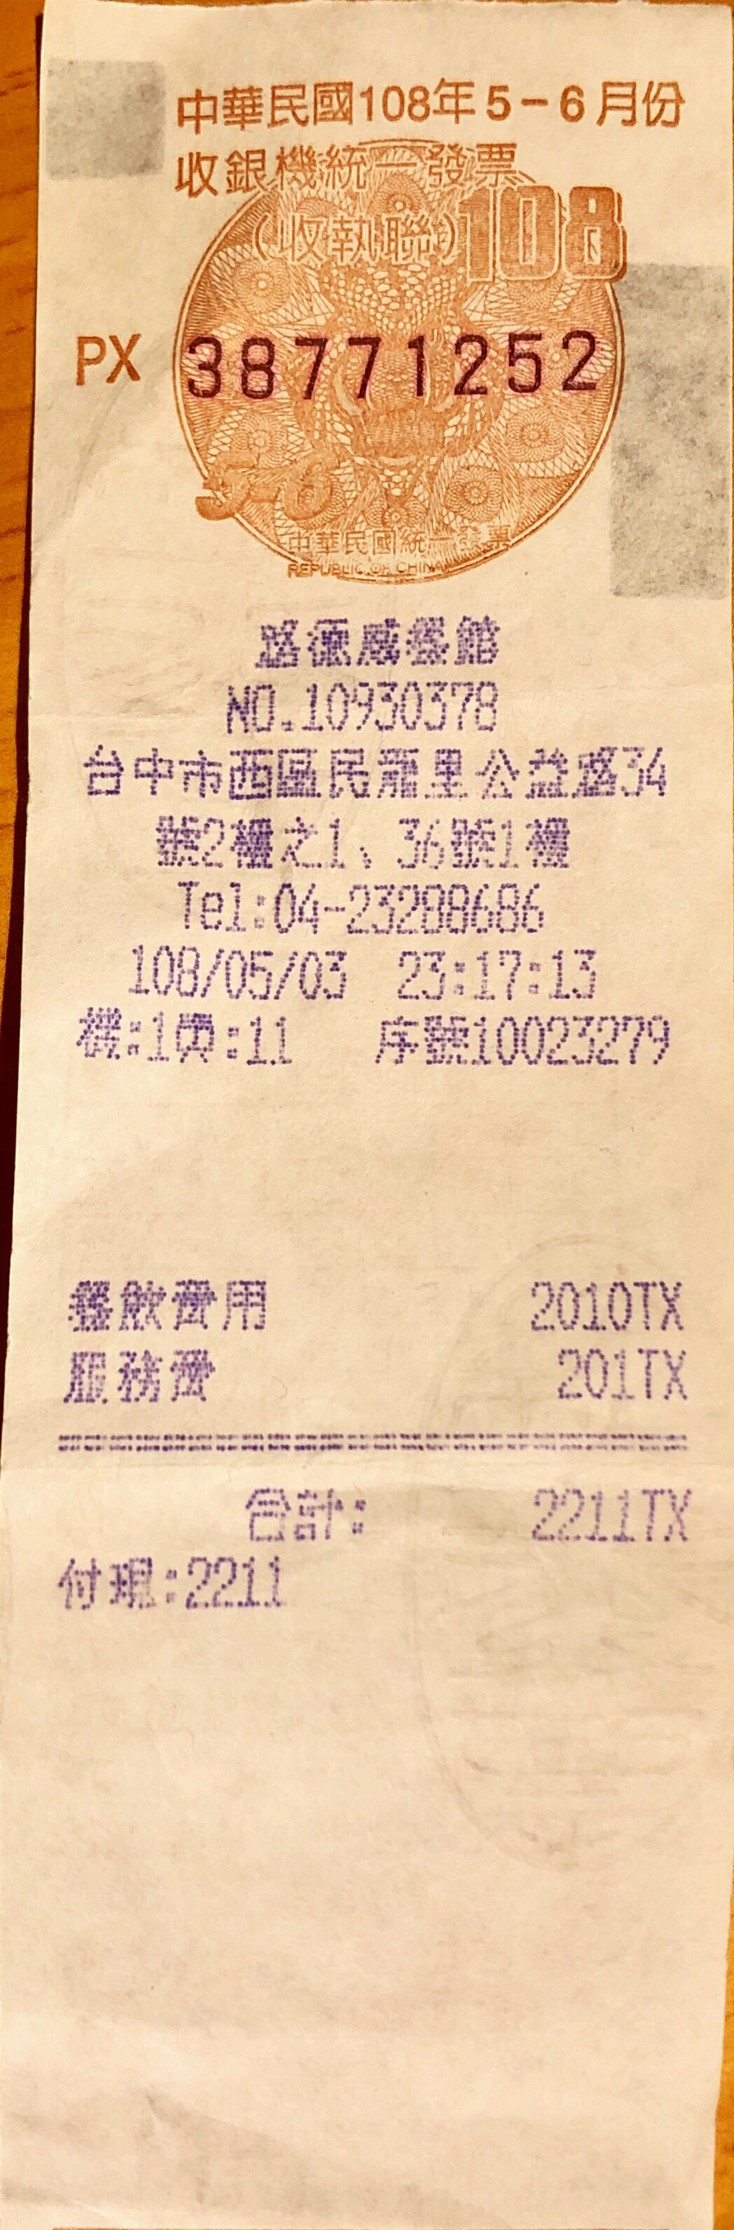Date_Old: (353, 73, 688, 134)
Number_Old: (176, 327, 609, 397)
